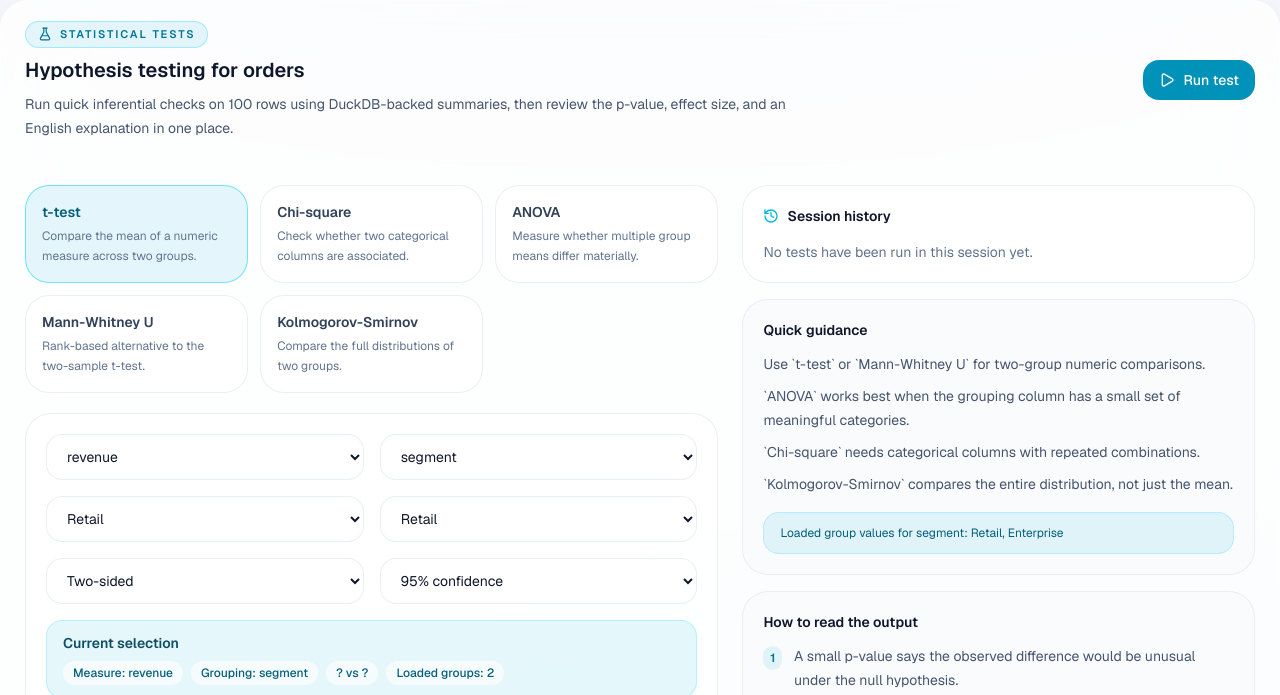
Test: StatisticalTests › switches to chi-square and renders the returned result
The image size is (1280, 695).
Expected: the text "Loaded group values for segment: Retail, Enterprise" is shown, [763,512,1234,554]
Click the button "Chi-square": (372, 234) [260,184,483,282]
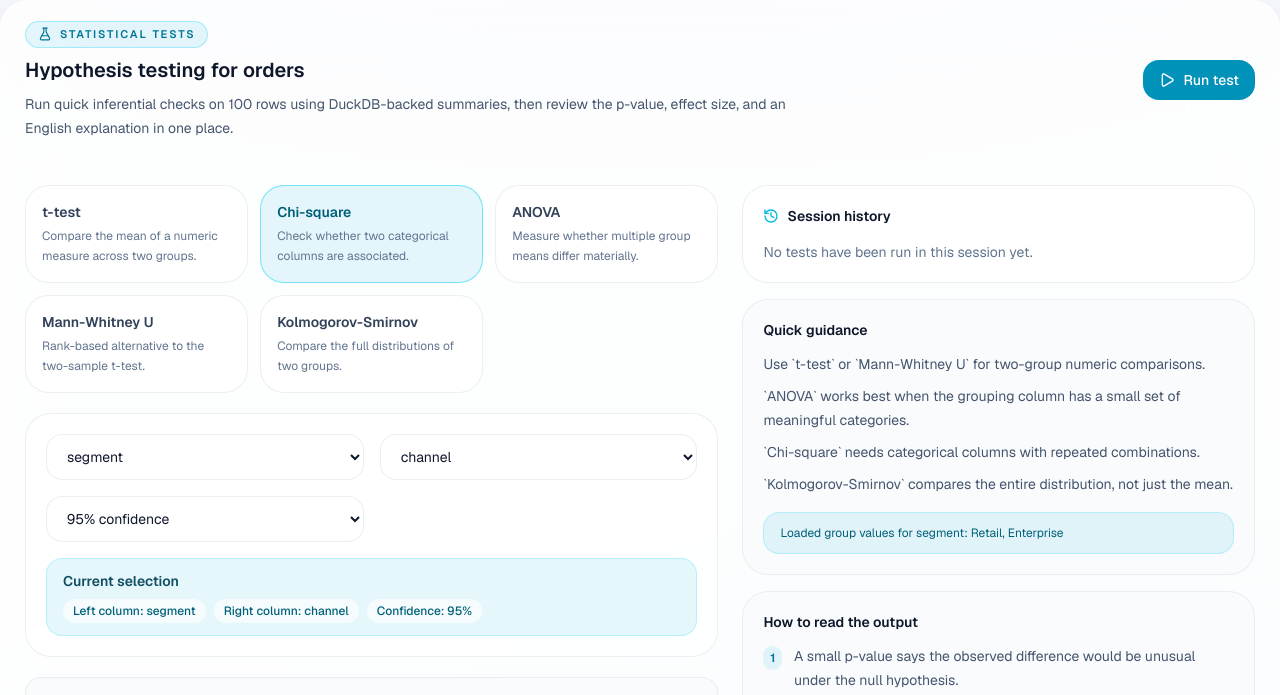
Click the button "Run test": (1199, 80) [1143,60,1255,100]
(page scrolled)
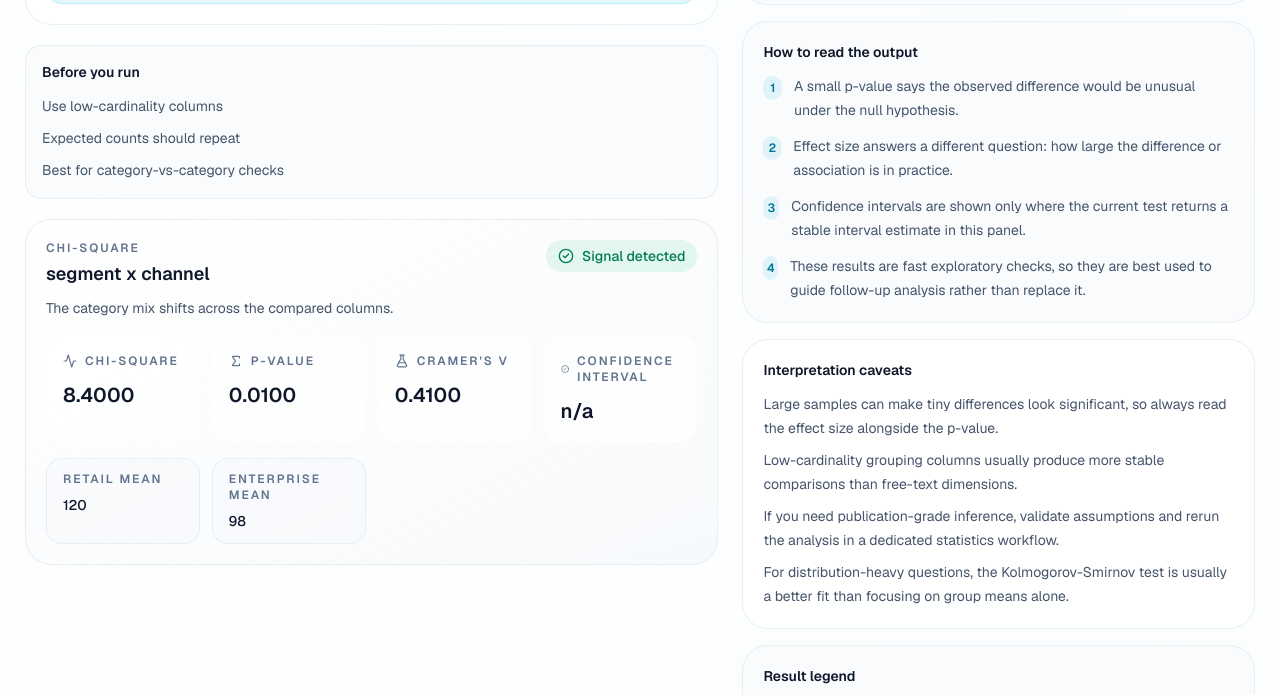
Expected: the number of headings "segment x channel" is 2
Expected: the text "Cramer's V" is shown, [395,352,515,368]
